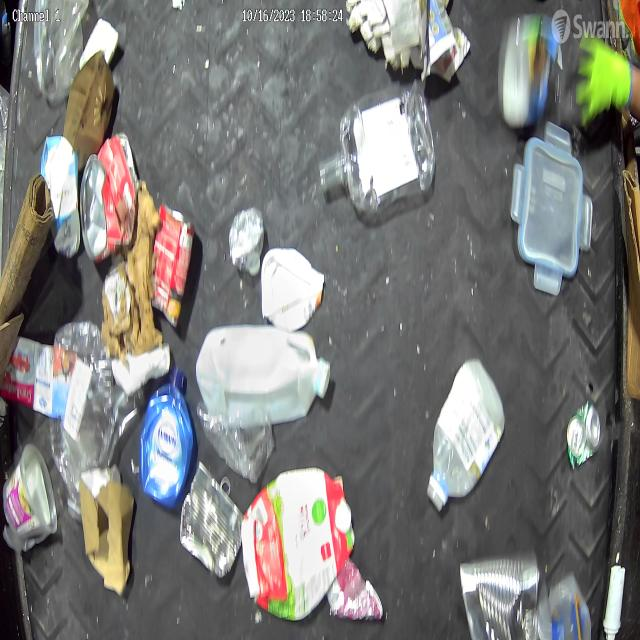can: (80, 131, 138, 264), (460, 547, 540, 640), (180, 463, 244, 577), (148, 201, 194, 327), (326, 556, 384, 621), (566, 401, 601, 469)
milk_jug: (195, 324, 331, 425), (426, 358, 504, 512), (261, 248, 326, 330)
non_white_jug: (242, 468, 354, 622), (139, 367, 194, 508), (41, 136, 82, 254), (1, 335, 53, 417)
plastic_bottle: (318, 84, 434, 213), (52, 318, 114, 519), (228, 205, 264, 274)
